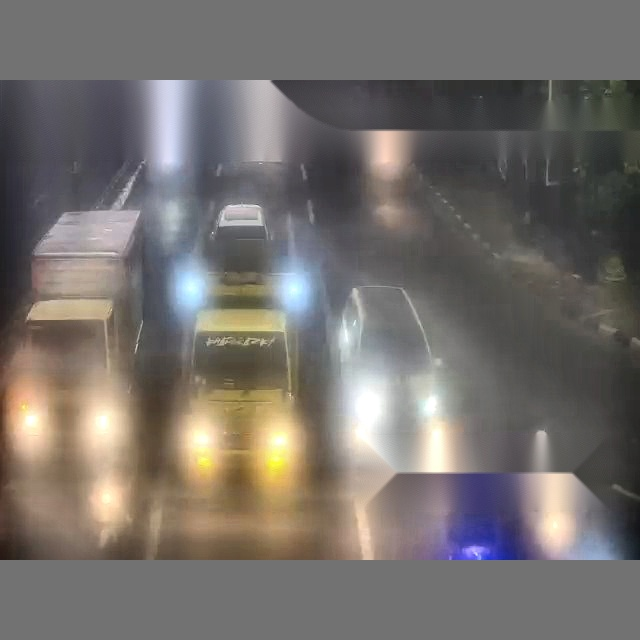Mobil: (207, 204, 280, 316)
Truk: (0, 209, 148, 556)
